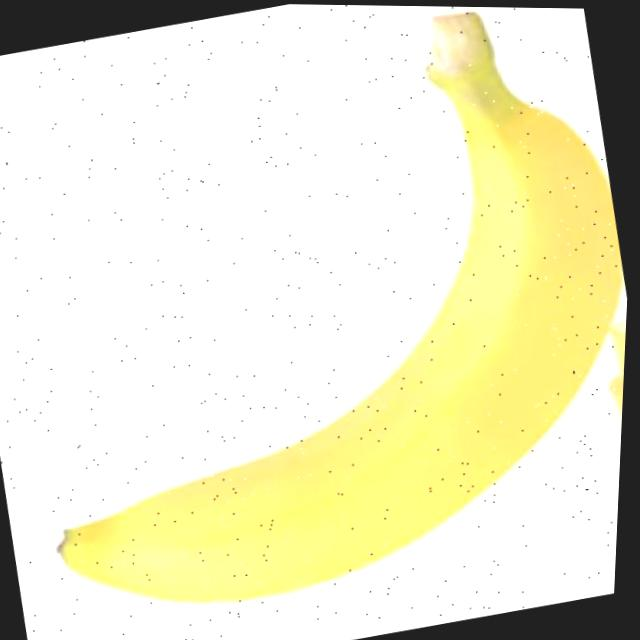Banana: (0, 0, 640, 638)
